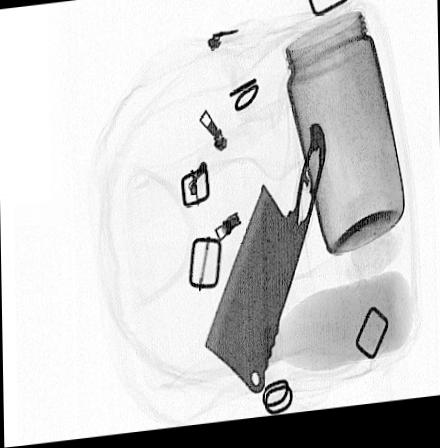Knife: (202, 125, 326, 402)
